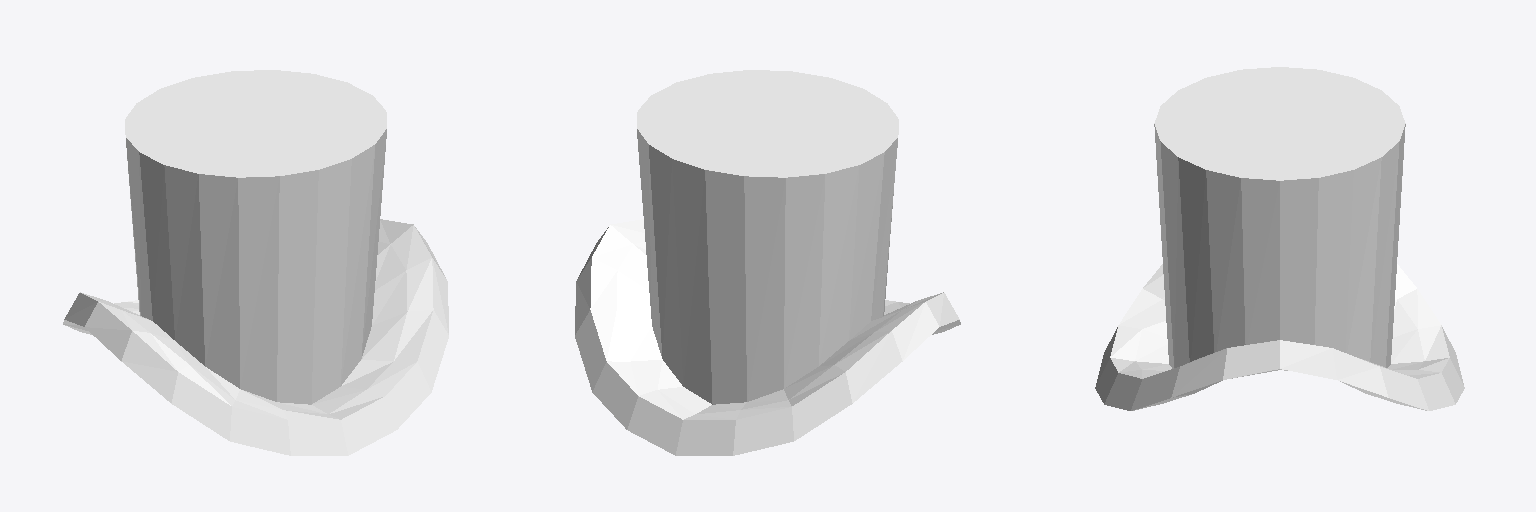
3 renders of one model, left to right at view 1: azimuth 30°, elevation 25°; view 2: azimuth 150°, elevation 25°; view 3: azimuth 270°, elevation 25°, orthographic.
Bounding box in the file's own units: 2.07 × 1.52 × 1.93.
Materials: 1 (1 with a texture image).